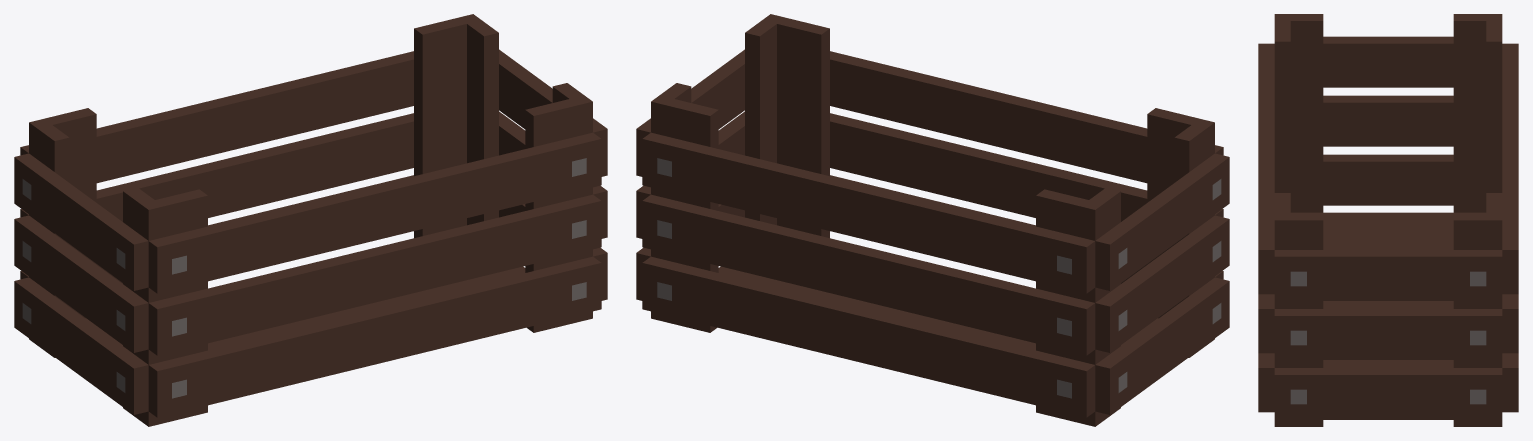
Rendered from Yashik_W4.obj.
3 views of the same model, side by side, from view 1: azimuth 30°, elevation 25°; view 2: azimuth 150°, elevation 25°; view 3: azimuth 270°, elevation 25° (orthographic). The views are drawn at different scales.
Parts seen in each view (by area): view 1: Yashik_W4; view 2: Yashik_W4; view 3: Yashik_W4.
Boxes of the visible parts, <box> form: Yashik_W4: <box>14,14,607,426</box>; Yashik_W4: <box>636,14,1229,426</box>; Yashik_W4: <box>1258,14,1518,426</box>.
Size of the model in its own units: 3.2 by 1.4 by 1.6.
1 material, 1 textured.
